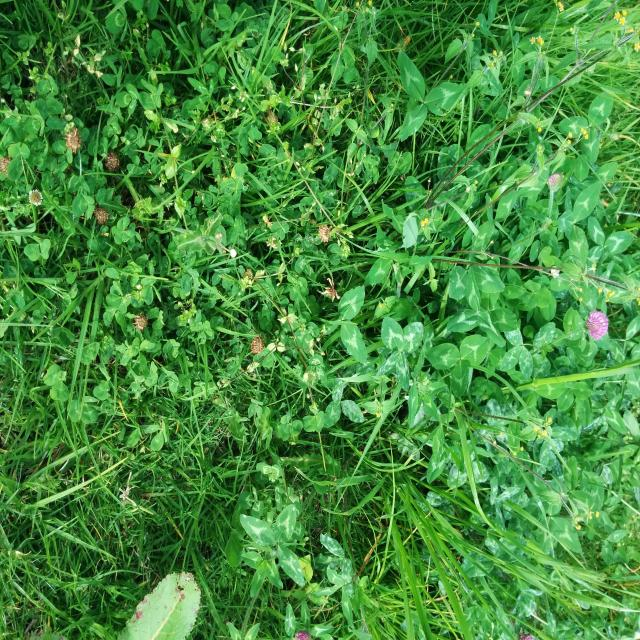Four Leaf Clover: (378, 317, 424, 391)
